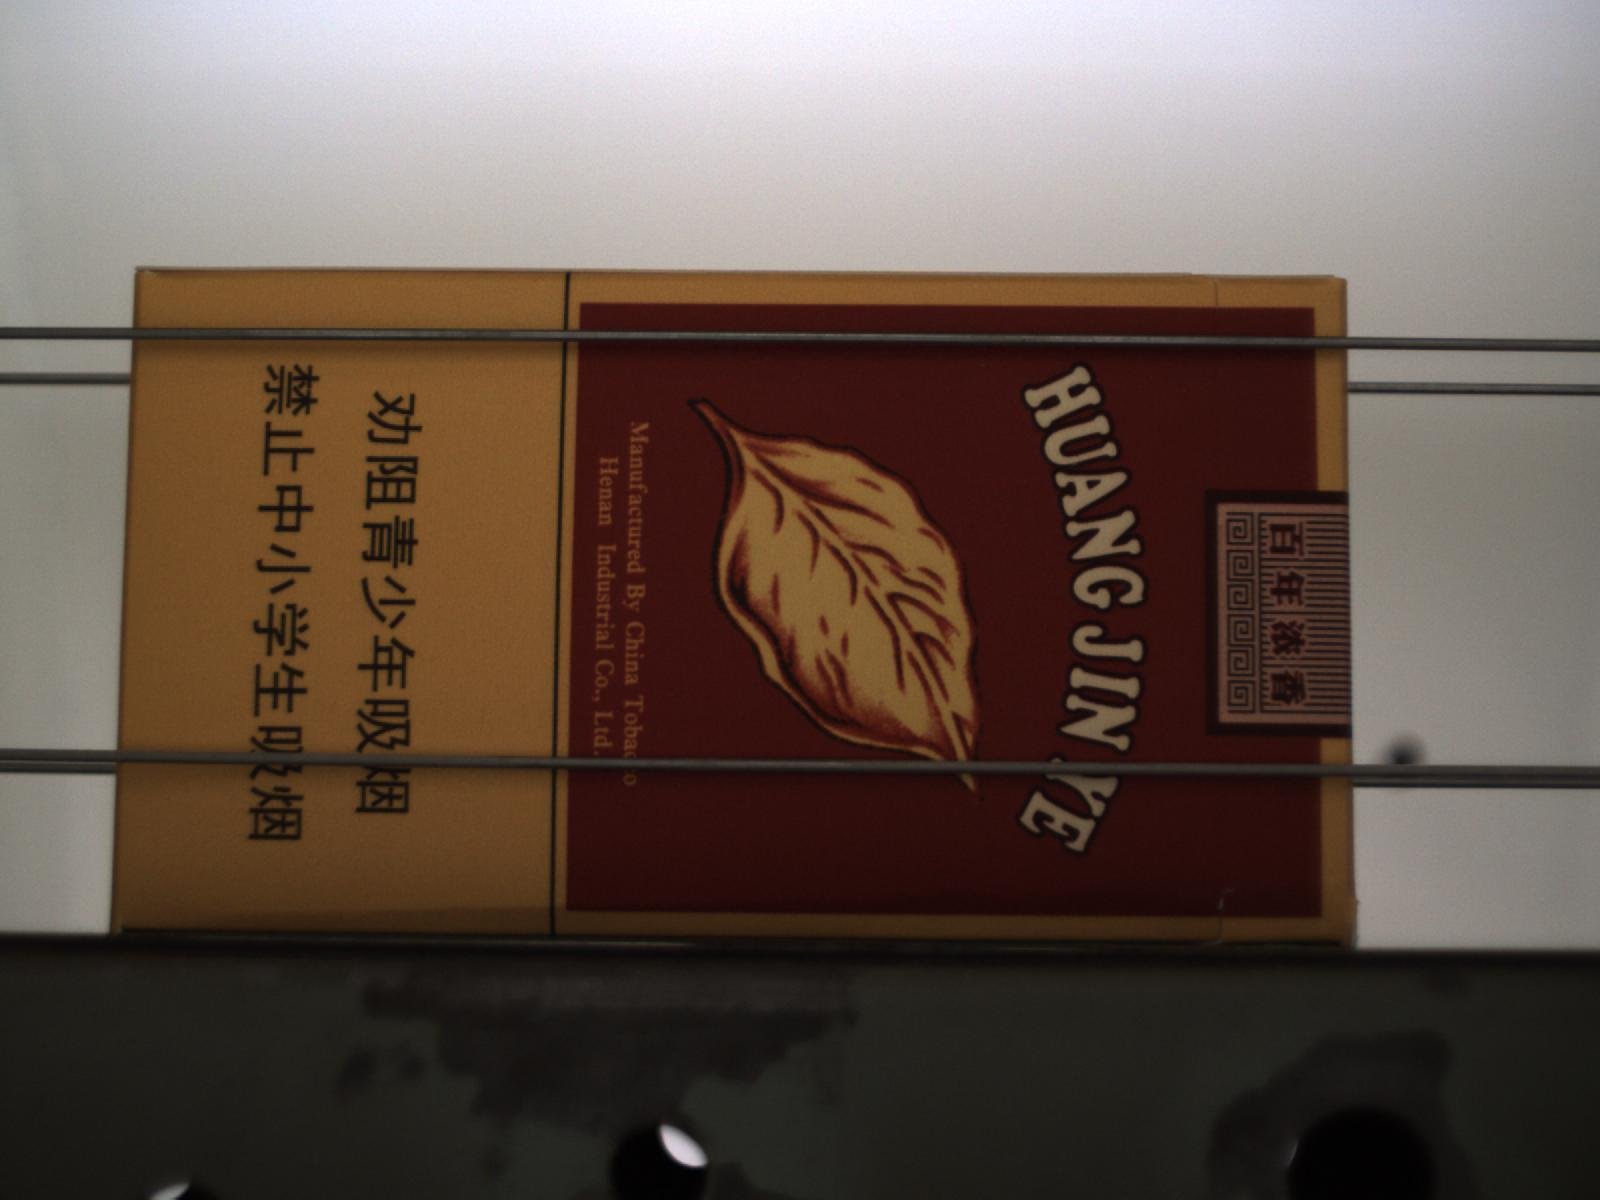boxDamage_slight: (188, 884, 1286, 948)
